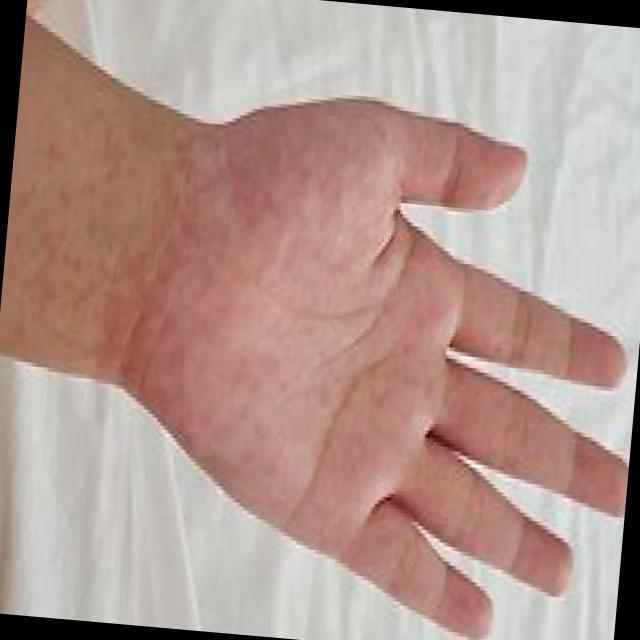not-gloved: (103, 68, 640, 637)
